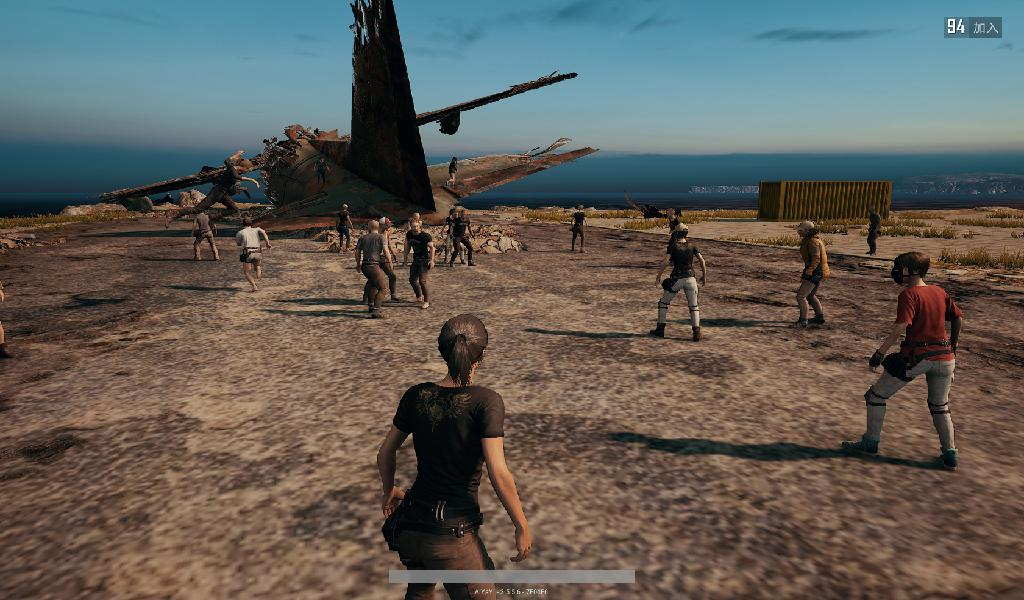Target Person: (375, 313, 534, 600), (842, 252, 963, 473), (648, 223, 706, 344), (787, 219, 830, 329), (354, 219, 390, 323), (231, 216, 272, 293), (402, 221, 436, 311), (191, 206, 221, 263), (442, 206, 467, 265), (450, 211, 475, 269), (861, 200, 882, 261), (333, 201, 356, 256), (566, 202, 589, 254)
